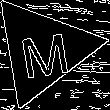M_N: (14, 21, 72, 79)
